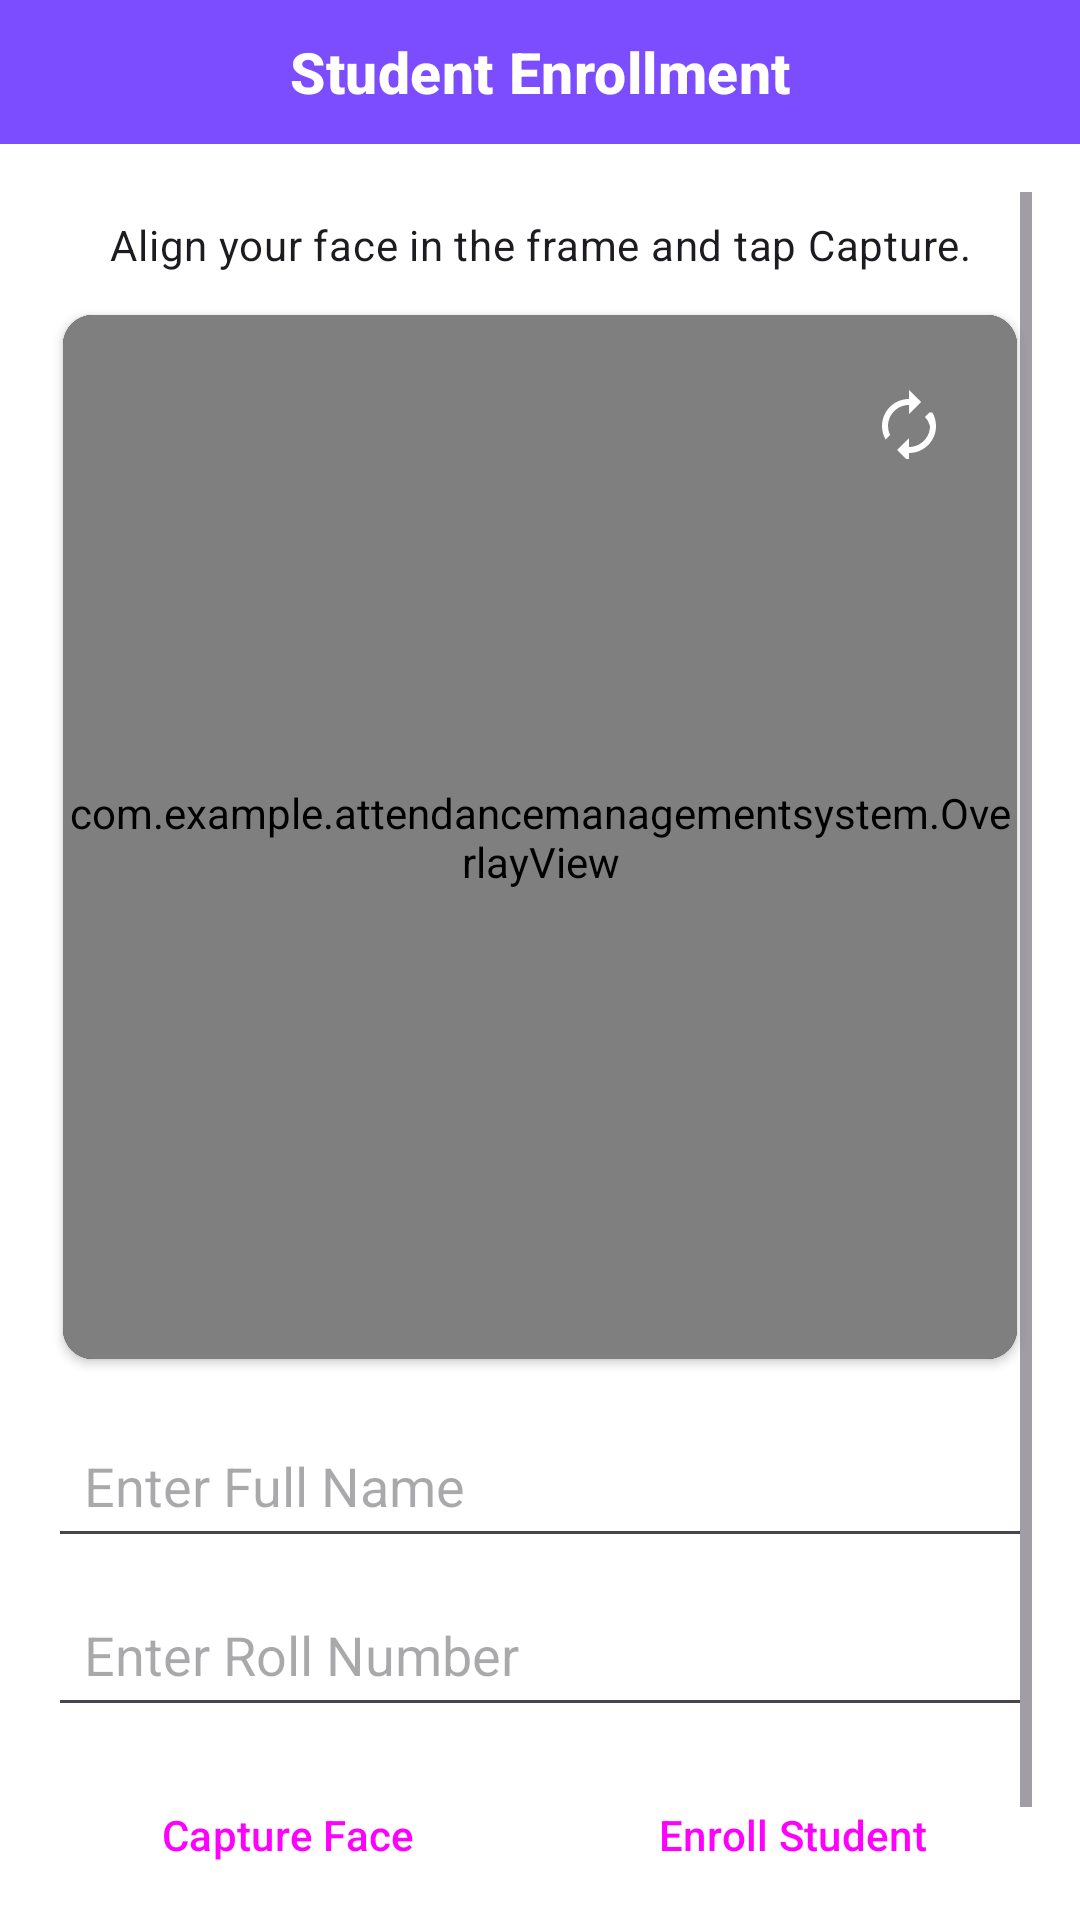

Where to tap for icons on this 1080px×1920px app screen, as (x=x, y=y):
Switch Camera: (x=909, y=424)
